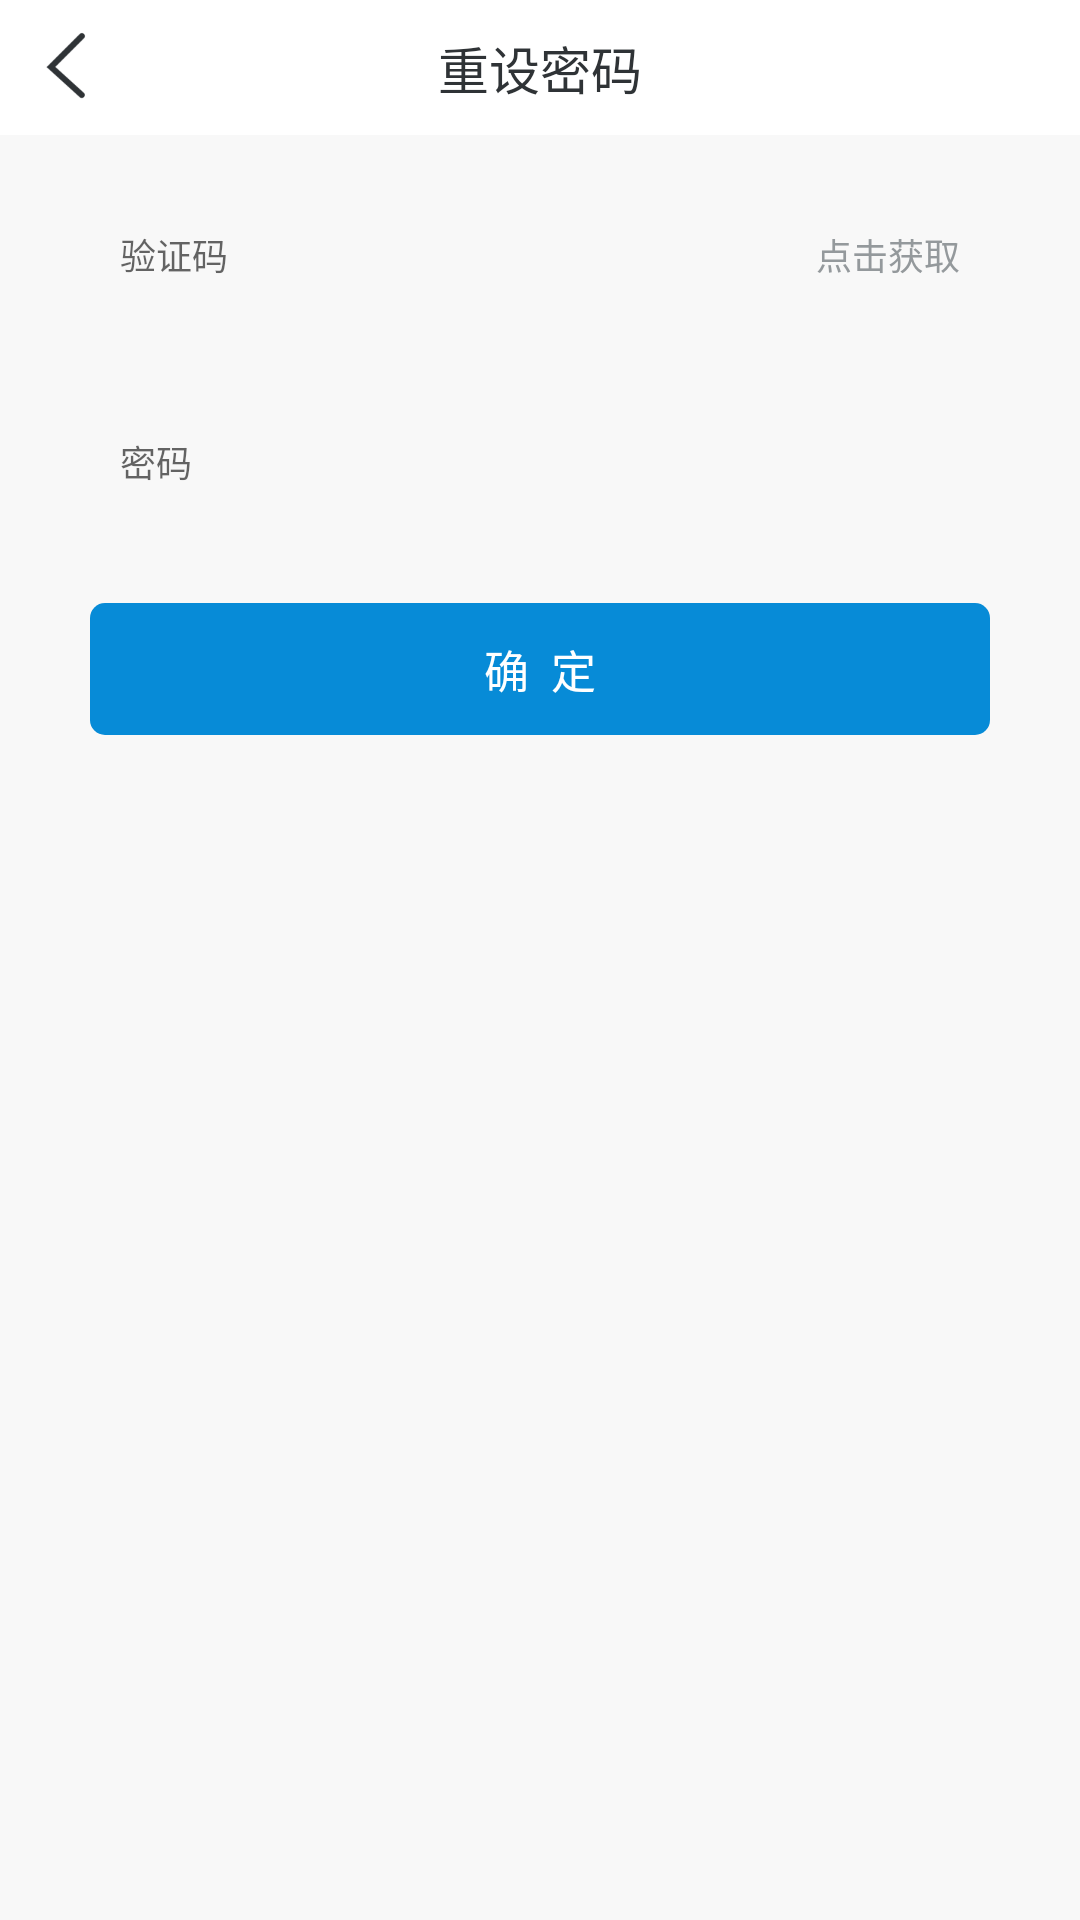

Icons on this 1080 × 1920 Android screen, each with the point to tap as point (x, y):
back: point (65, 65)
